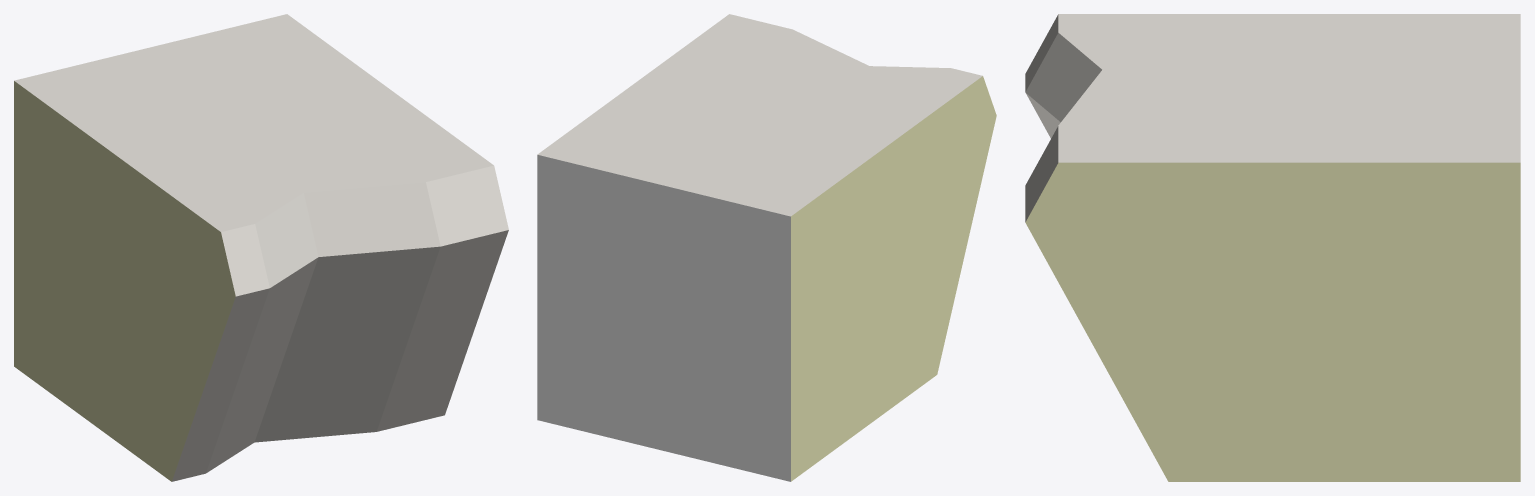
The model's file is Cracked_Straight_1x2_1_Top.glb.
The picture shows the model from 3 angles, left to right: view 1: azimuth 30°, elevation 25°; view 2: azimuth 150°, elevation 25°; view 3: azimuth 270°, elevation 25°; orthographic projection. The views are drawn at different scales.
Parts seen in each view (by area): view 1: Cracked_Straight_1x2_1_Top; view 2: Cracked_Straight_1x2_1_Top; view 3: Cracked_Straight_1x2_1_Top.
Part boxes in pixels (x1,y1,x2,y2): Cracked_Straight_1x2_1_Top: (14, 14, 508, 481); Cracked_Straight_1x2_1_Top: (537, 14, 996, 481); Cracked_Straight_1x2_1_Top: (1025, 14, 1520, 481).
Bounding box in the file's own units: 100 × 100 × 141.
